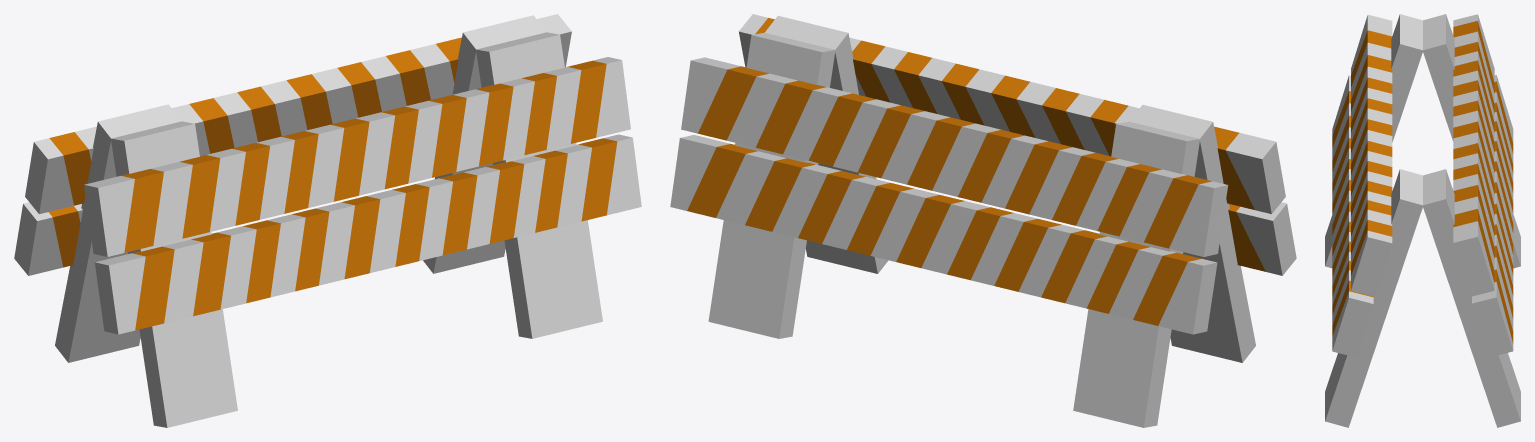
File: Police_barricade.fbx
The picture shows the model from 3 angles, left to right: view 1: azimuth 30°, elevation 25°; view 2: azimuth 150°, elevation 25°; view 3: azimuth 270°, elevation 25°; orthographic projection. The views are drawn at different scales.
Visible parts, largest first — view 1: Cube.005; view 2: Cube.005; view 3: Cube.005.
Boxes of the visible parts, bbox=[...] form: Cube.005: bbox=[14, 14, 641, 427]; Cube.005: bbox=[670, 14, 1296, 427]; Cube.005: bbox=[1325, 14, 1520, 427].
Bounding box in the file's own units: 411 × 197 × 153.
